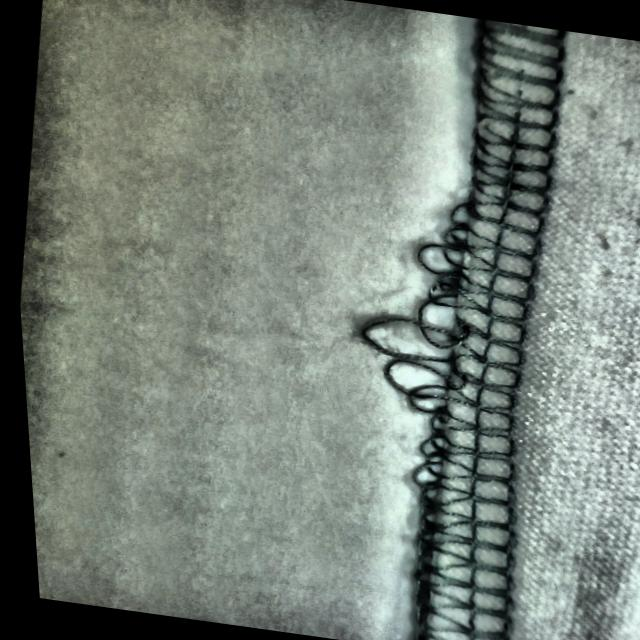Stitch: (326, 183, 571, 508)
